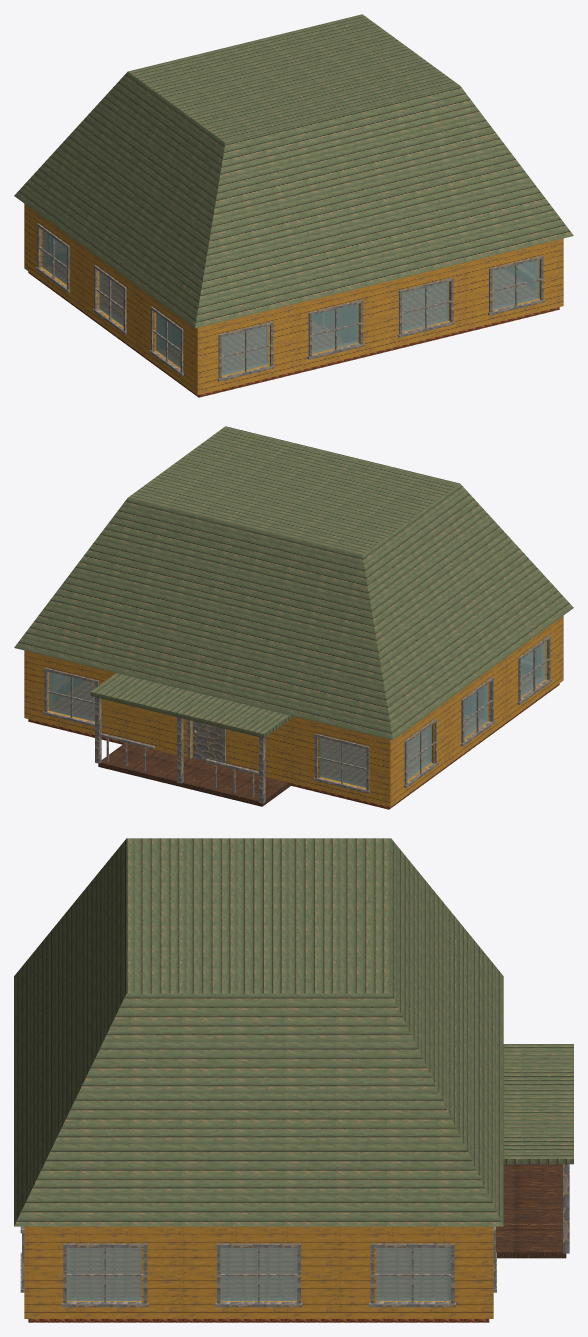
File: post-lane-office.gltf
3 renders of one model, top to bottom at view 1: azimuth 30°, elevation 25°; view 2: azimuth 150°, elevation 25°; view 3: azimuth 270°, elevation 25°, orthographic. The views are drawn at different scales.
Visible parts, largest first — view 1: roof-L0-slate, exterior-L0-brick, glazing-L0-glass, trim-L0-dark-wood, floor-L0-floor, interior-L0-interior; view 2: roof-L0-slate, exterior-L0-brick, glazing-L0-glass, porch-L0-slate, trim-L0-dark-wood, porch-L0-stone, floor-L0-floor, porch-L0-dark-wood, door-leaf-L0-dark-wood; view 3: roof-L0-slate, exterior-L0-brick, glazing-L0-glass, floor-L0-floor, porch-L0-slate, trim-L0-dark-wood, porch-L0-stone, porch-L0-dark-wood.
Part boxes in pixels (x1,y1,x2,y2): roof-L0-slate: (14,14,573,328); exterior-L0-brick: (24,204,563,395); glazing-L0-glass: (42,230,539,375); trim-L0-dark-wood: (36,223,544,381); floor-L0-floor: (28,261,559,397); interior-L0-interior: (161,305,355,347); roof-L0-slate: (14,426,573,740); exterior-L0-brick: (24,616,563,807); glazing-L0-glass: (48,642,545,787); porch-L0-slate: (90,673,293,738); trim-L0-dark-wood: (43,635,551,793); porch-L0-stone: (98,743,290,806); floor-L0-floor: (28,673,559,809); porch-L0-dark-wood: (95,697,265,803); door-leaf-L0-dark-wood: (192,721,222,762); roof-L0-slate: (14,838,503,1226); exterior-L0-brick: (24,1226,493,1318); glazing-L0-glass: (66,1248,450,1300); floor-L0-floor: (28,1248,489,1322); porch-L0-slate: (503,1044,573,1164); trim-L0-dark-wood: (20,1226,496,1307); porch-L0-stone: (496,1164,566,1258); porch-L0-dark-wood: (563,1164,569,1253).
Bounding box in the file's own units: 11.56 × 6.21 × 10.93.
Materials: 8 (7 with a texture image).
